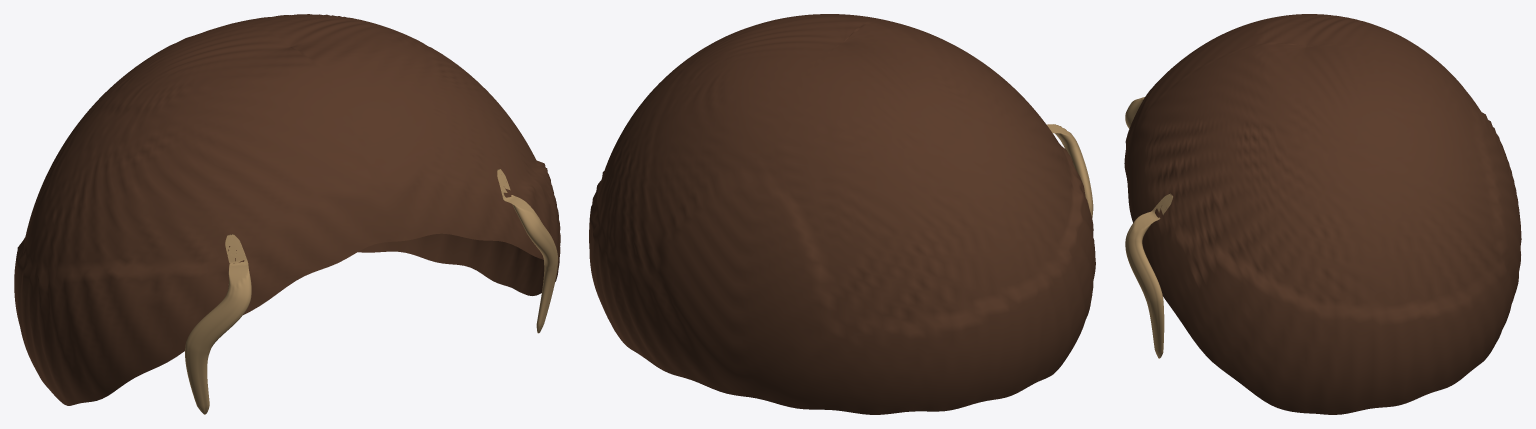
Rendered from Highlights-3ec1531293dd251-hair.glb.
The picture shows the model from 3 angles, left to right: view 1: azimuth 30°, elevation 25°; view 2: azimuth 150°, elevation 25°; view 3: azimuth 270°, elevation 25°; orthographic projection. The views are drawn at different scales.
Visible parts, largest first — view 1: 226 hair / Hair / chestnut226.002; view 2: 226 hair / Hair / chestnut226.002; view 3: 226 hair / Hair / chestnut226.002.
Part boxes in pixels (x1=…): 226 hair / Hair / chestnut226.002: x1=14, y1=14, x2=560, y2=414; 226 hair / Hair / chestnut226.002: x1=589, y1=14, x2=1095, y2=414; 226 hair / Hair / chestnut226.002: x1=1124, y1=14, x2=1521, y2=414.
Size of the model in its own units: 0.9988 by 0.599 by 0.7845.
